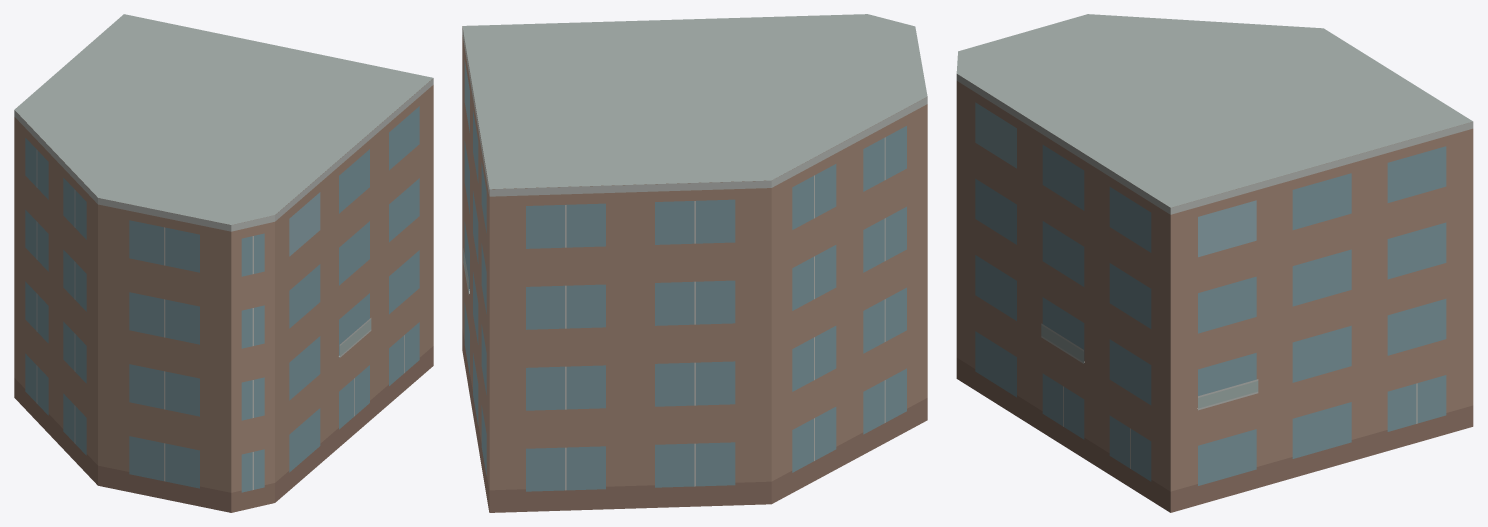
The model's file is survey-upis-32526287.glb.
3 views of the same model, side by side, from view 1: azimuth 30°, elevation 25°; view 2: azimuth 150°, elevation 25°; view 3: azimuth 270°, elevation 25° (orthographic). The views are drawn at different scales.
Parts seen in each view (by area): view 1: survey-upis-32526287.tmp; view 2: survey-upis-32526287.tmp; view 3: survey-upis-32526287.tmp.
Boxes of the visible parts, left/top/right/bottom form: survey-upis-32526287.tmp: left=14, top=14, right=433, bottom=512; survey-upis-32526287.tmp: left=462, top=14, right=927, bottom=512; survey-upis-32526287.tmp: left=956, top=14, right=1473, bottom=512.
Size of the model in its own units: 14.41 by 10.57 by 16.23.
